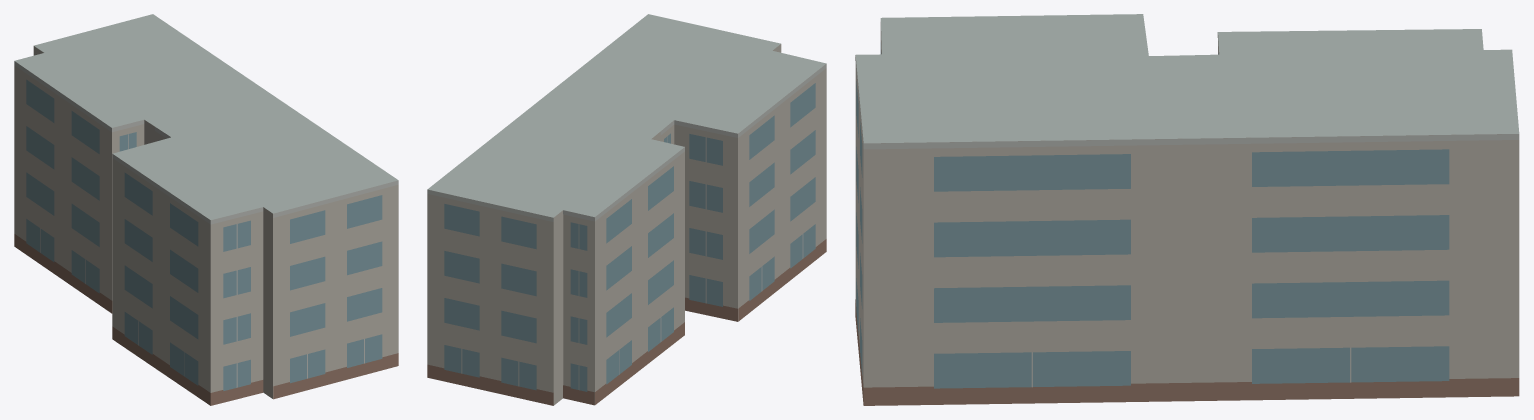
File: survey-upis-33045584.glb
The picture shows the model from 3 angles, left to right: view 1: azimuth 30°, elevation 25°; view 2: azimuth 150°, elevation 25°; view 3: azimuth 270°, elevation 25°; orthographic projection. The views are drawn at different scales.
Visible parts, largest first — view 1: survey-upis-33045584.tmp; view 2: survey-upis-33045584.tmp; view 3: survey-upis-33045584.tmp.
Boxes of the visible parts, x1,y1,x2,y2 form: survey-upis-33045584.tmp: [14, 14, 398, 405]; survey-upis-33045584.tmp: [427, 14, 826, 405]; survey-upis-33045584.tmp: [855, 14, 1519, 405].
Bounding box in the file's own units: 11.11 × 10.5 × 24.07.
